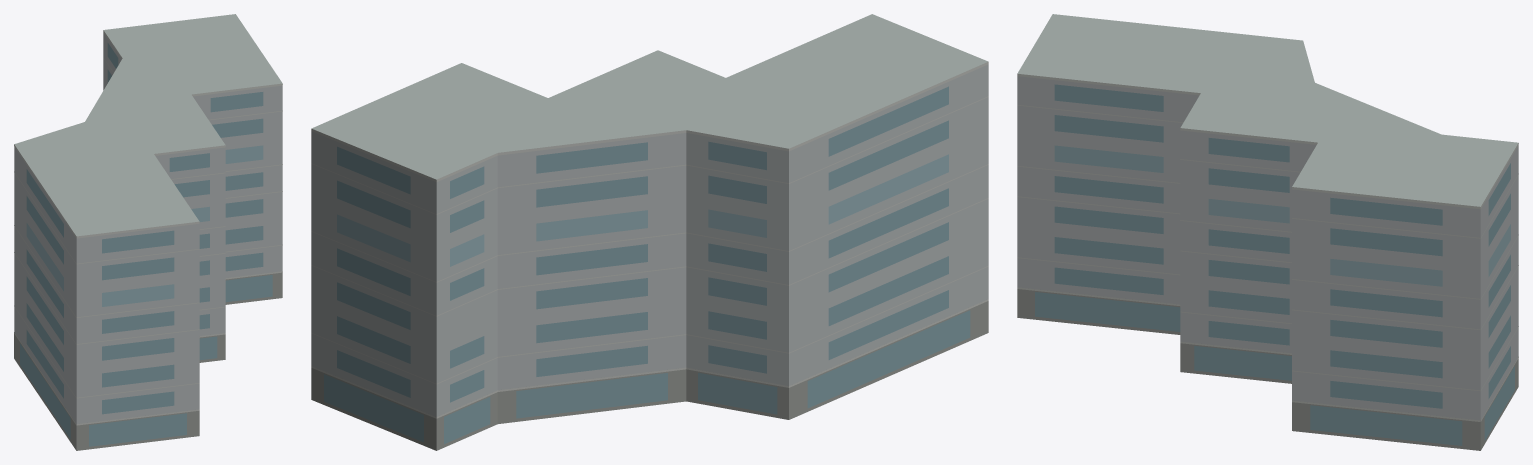
The model's file is residential-04c1b4a0-24f0-4d70-a7ff-84622c525bfa.glb.
3 renders of one model, left to right at view 1: azimuth 30°, elevation 25°; view 2: azimuth 150°, elevation 25°; view 3: azimuth 270°, elevation 25°, orthographic. The views are drawn at different scales.
Visible parts, largest first — view 1: residential-04c1b4a0-24f0-4d70-a7ff-84622c525bfa.tmp; view 2: residential-04c1b4a0-24f0-4d70-a7ff-84622c525bfa.tmp; view 3: residential-04c1b4a0-24f0-4d70-a7ff-84622c525bfa.tmp.
Part boxes in pixels (x1=…): residential-04c1b4a0-24f0-4d70-a7ff-84622c525bfa.tmp: x1=14, y1=14, x2=282, y2=450; residential-04c1b4a0-24f0-4d70-a7ff-84622c525bfa.tmp: x1=311, y1=14, x2=988, y2=450; residential-04c1b4a0-24f0-4d70-a7ff-84622c525bfa.tmp: x1=1017, y1=14, x2=1518, y2=450.
Bounding box in the file's own units: 41.38 × 24.4 × 45.46.
